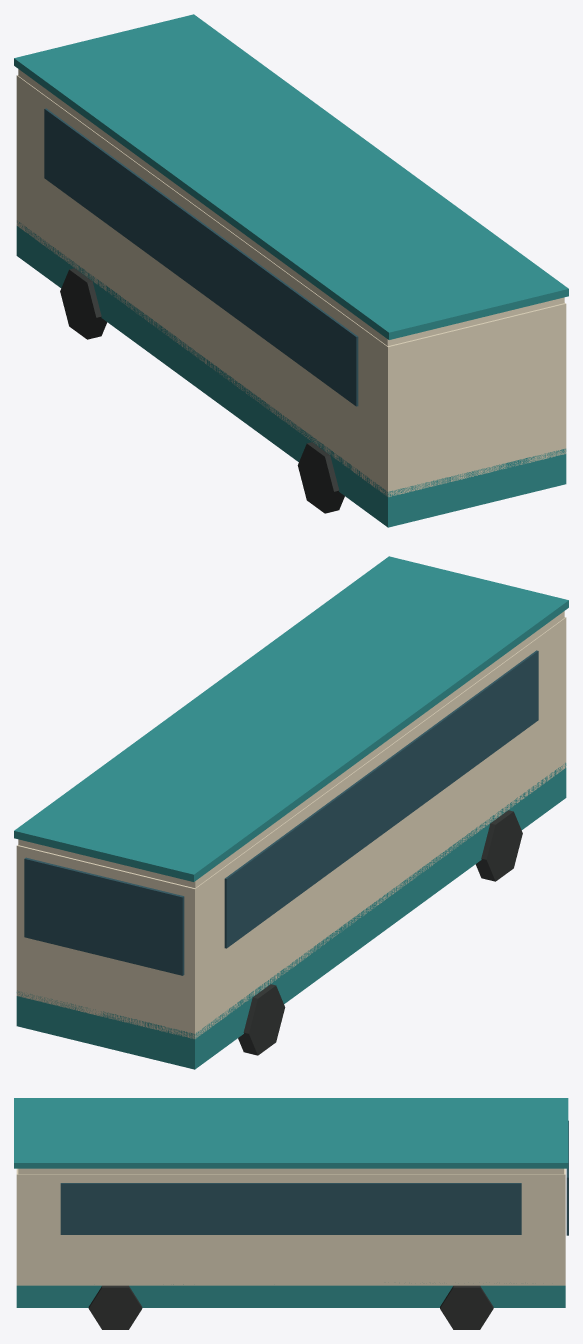
File: bus_far.glb
3 views of the same model, one above another, from view 1: azimuth 30°, elevation 25°; view 2: azimuth 150°, elevation 25°; view 3: azimuth 270°, elevation 25° (orthographic). The views are drawn at different scales.
Parts seen in each view (by area): view 1: BusModel traffic_teal.001, BusModel traffic_cream, BusModel traffic_glass, BusModel traffic_rubber; view 2: BusModel traffic_teal.001, BusModel traffic_cream, BusModel traffic_glass, BusModel traffic_rubber; view 3: BusModel traffic_teal.001, BusModel traffic_cream, BusModel traffic_glass, BusModel traffic_rubber.
Part boxes in pixels (x1,y1,x2,y2): BusModel traffic_teal.001: (14, 14, 568, 527); BusModel traffic_cream: (16, 69, 566, 496); BusModel traffic_glass: (44, 108, 358, 406); BusModel traffic_rubber: (60, 268, 344, 513); BusModel traffic_teal.001: (14, 556, 568, 1069); BusModel traffic_cream: (16, 611, 566, 1038); BusModel traffic_glass: (24, 650, 538, 975); BusModel traffic_rubber: (238, 810, 522, 1055); BusModel traffic_teal.001: (14, 1098, 568, 1307); BusModel traffic_cream: (16, 1168, 565, 1285); BusModel traffic_glass: (60, 1120, 568, 1235); BusModel traffic_rubber: (88, 1285, 493, 1329).
Bounding box in the file's own units: 2.68 × 3.03 × 9.22.
